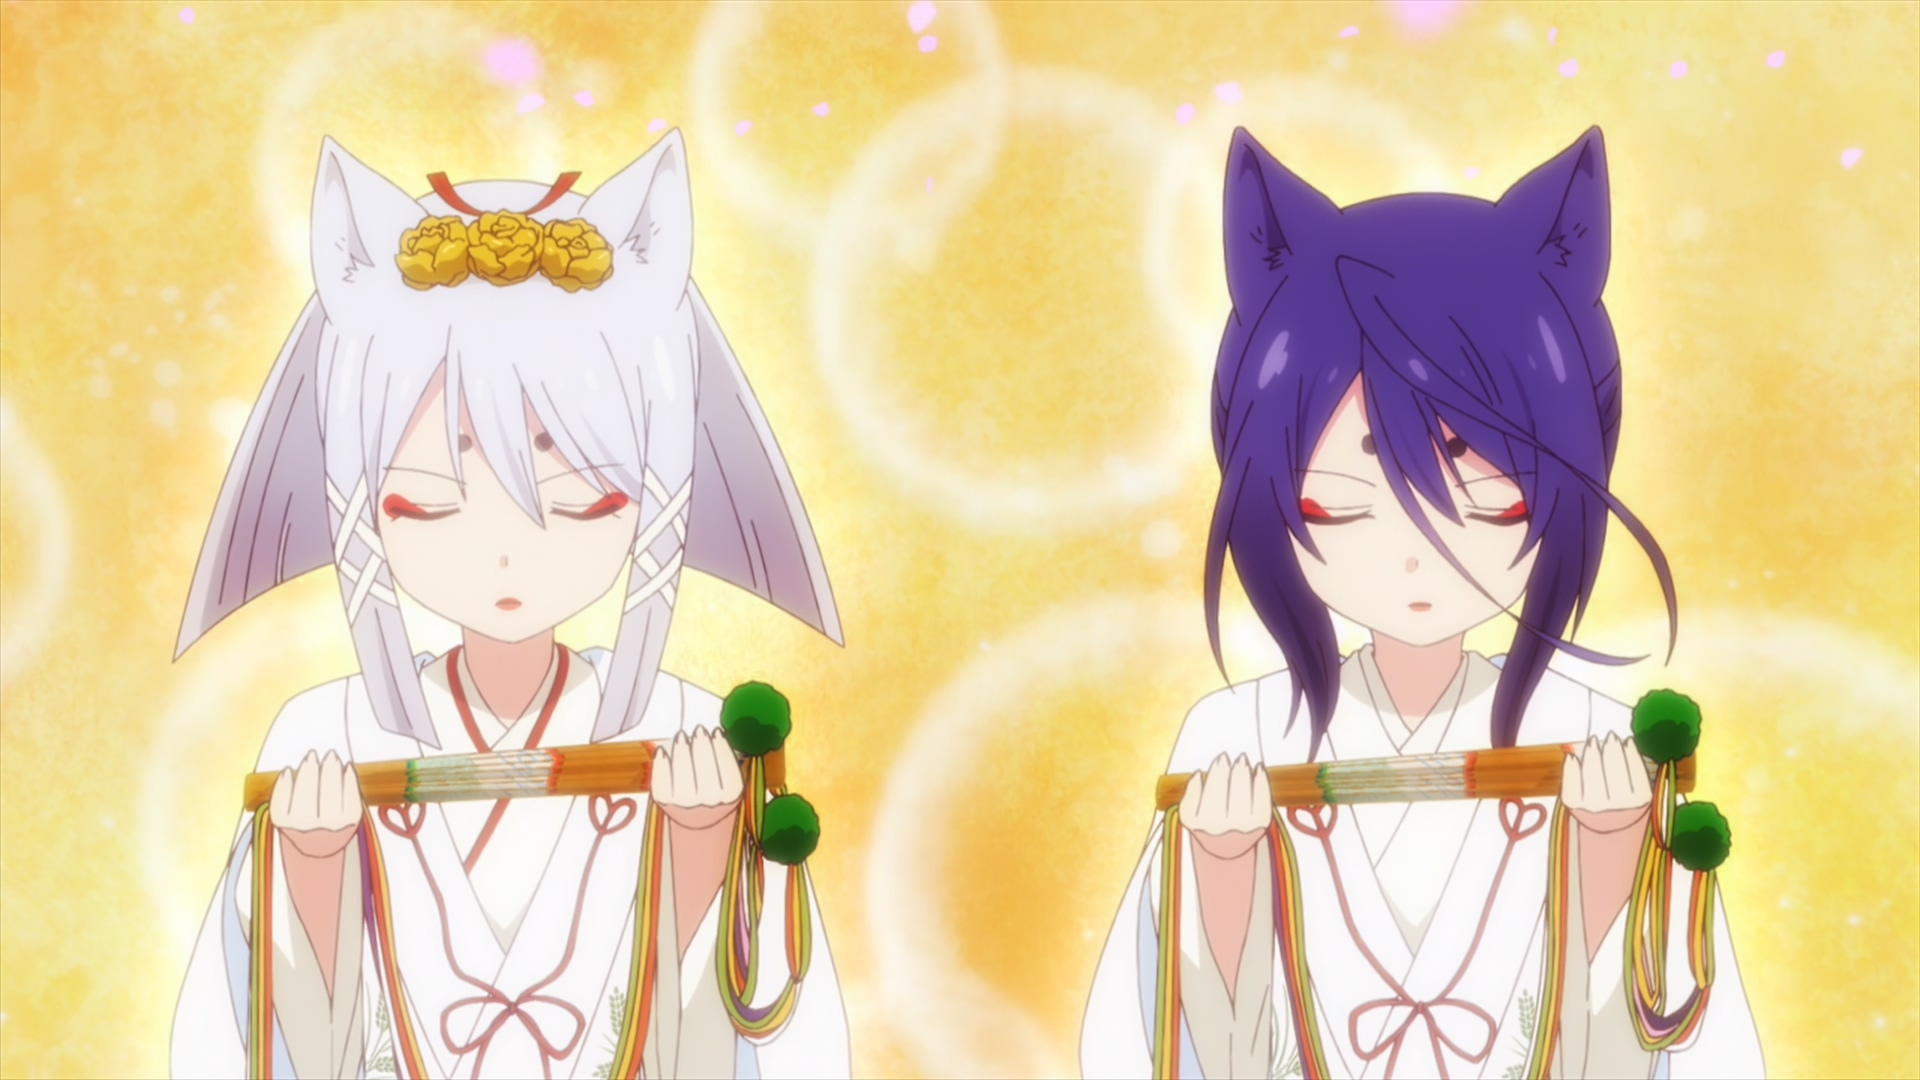柊: (167, 127, 853, 1080)
皋: (1081, 127, 1764, 1080)
